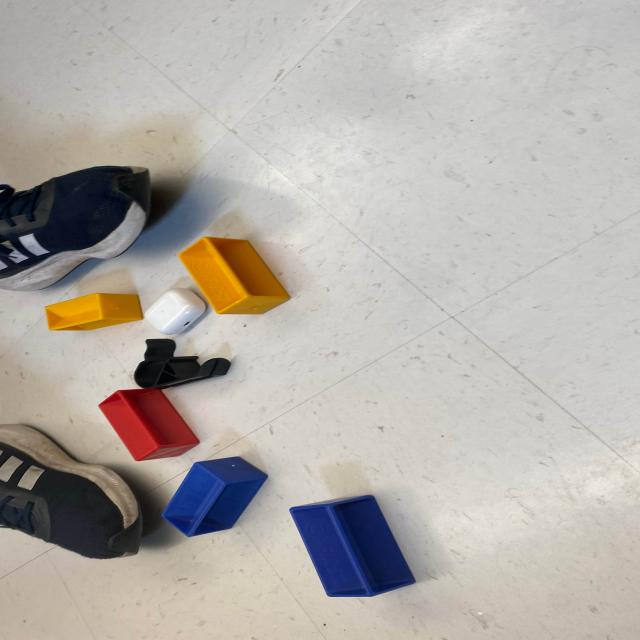blue-specimen: (286, 495, 419, 598), (158, 457, 268, 536)
red-specimen: (96, 387, 203, 461)
yellow-specimen: (174, 237, 290, 315), (45, 292, 144, 332)
